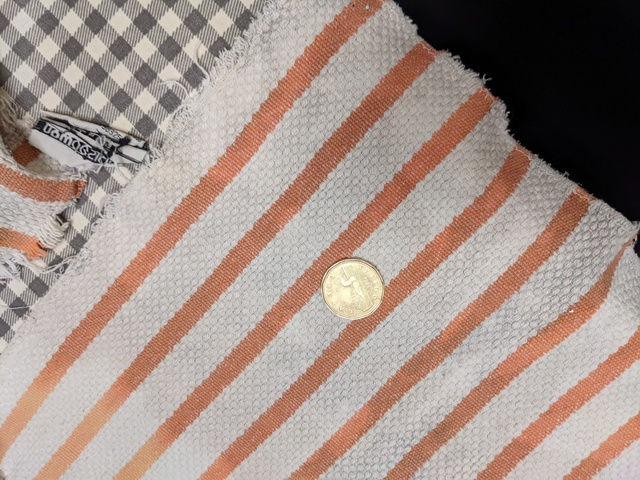loonie: (319, 247, 390, 325)
